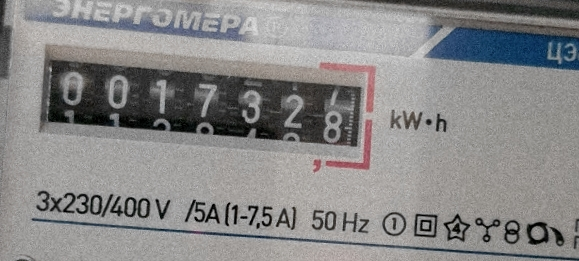0: (58, 67, 86, 108), (106, 71, 131, 111)
1: (150, 75, 171, 116)
2: (281, 92, 306, 130)
3: (240, 87, 264, 125)
7: (195, 80, 219, 120)
8: (322, 107, 342, 143)
screen: (27, 40, 387, 178)
